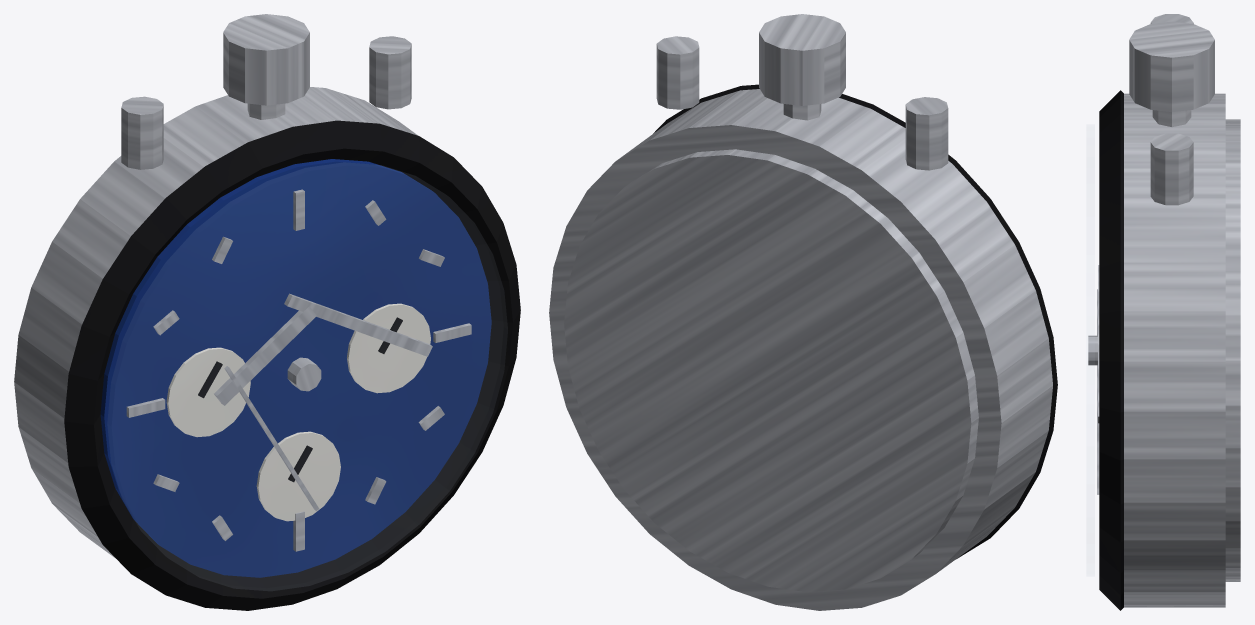
Rendered from mdl_reloj_cronografo.fbx.
3 renders of one model, left to right at view 1: azimuth 30°, elevation 25°; view 2: azimuth 150°, elevation 25°; view 3: azimuth 270°, elevation 25°, orthographic.
Visible parts, largest first — view 1: esmalte_azul, metal_acero, esmalte_negro, esmalte_blanco; view 2: metal_acero, esmalte_negro; view 3: metal_acero, esmalte_negro.
Boxes of the visible parts, left/top/right/bottom form: esmalte_azul: left=100, top=159, right=491, bottom=577; metal_acero: left=14, top=14, right=471, bottom=558; esmalte_negro: left=64, top=120, right=520, bottom=610; esmalte_blanco: left=166, top=303, right=430, bottom=521; metal_acero: left=549, top=14, right=1052, bottom=610; esmalte_negro: left=653, top=84, right=1057, bottom=558; metal_acero: left=1088, top=14, right=1240, bottom=607; esmalte_negro: left=1099, top=90, right=1123, bottom=610.
Bounding box in the file's own units: 122 × 141 × 36.
